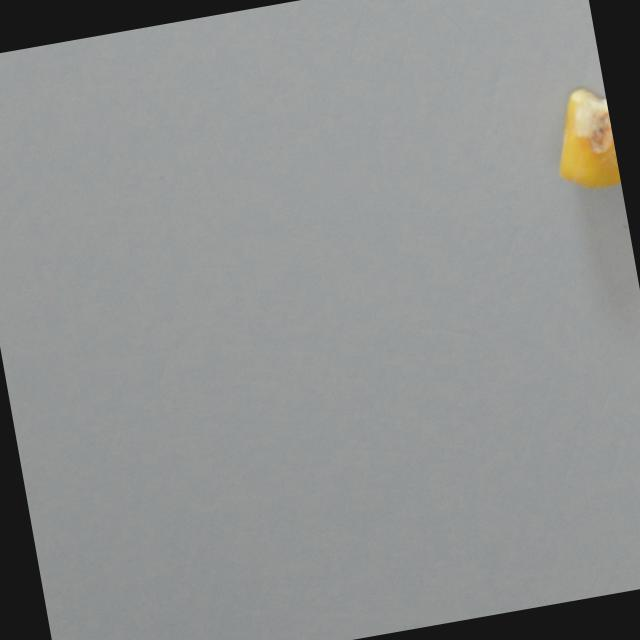dañado: (543, 83, 621, 196)
